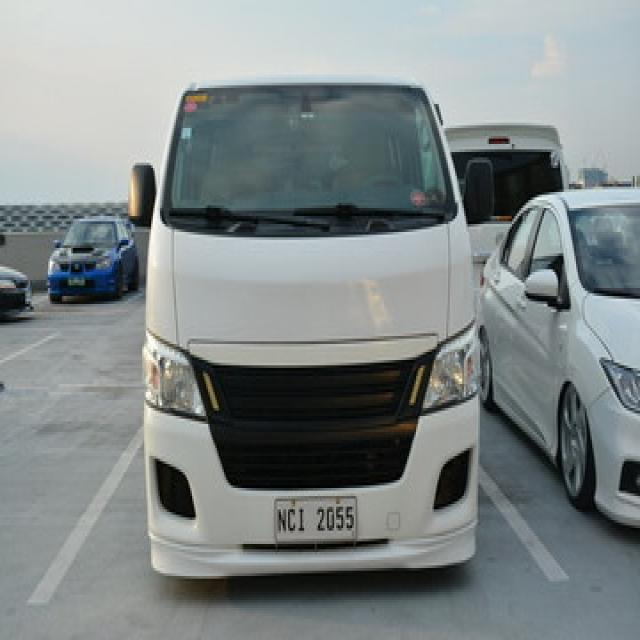car: (482, 189, 638, 525), (48, 219, 137, 301), (0, 267, 30, 312)
van: (55, 83, 489, 576), (444, 123, 567, 269)
